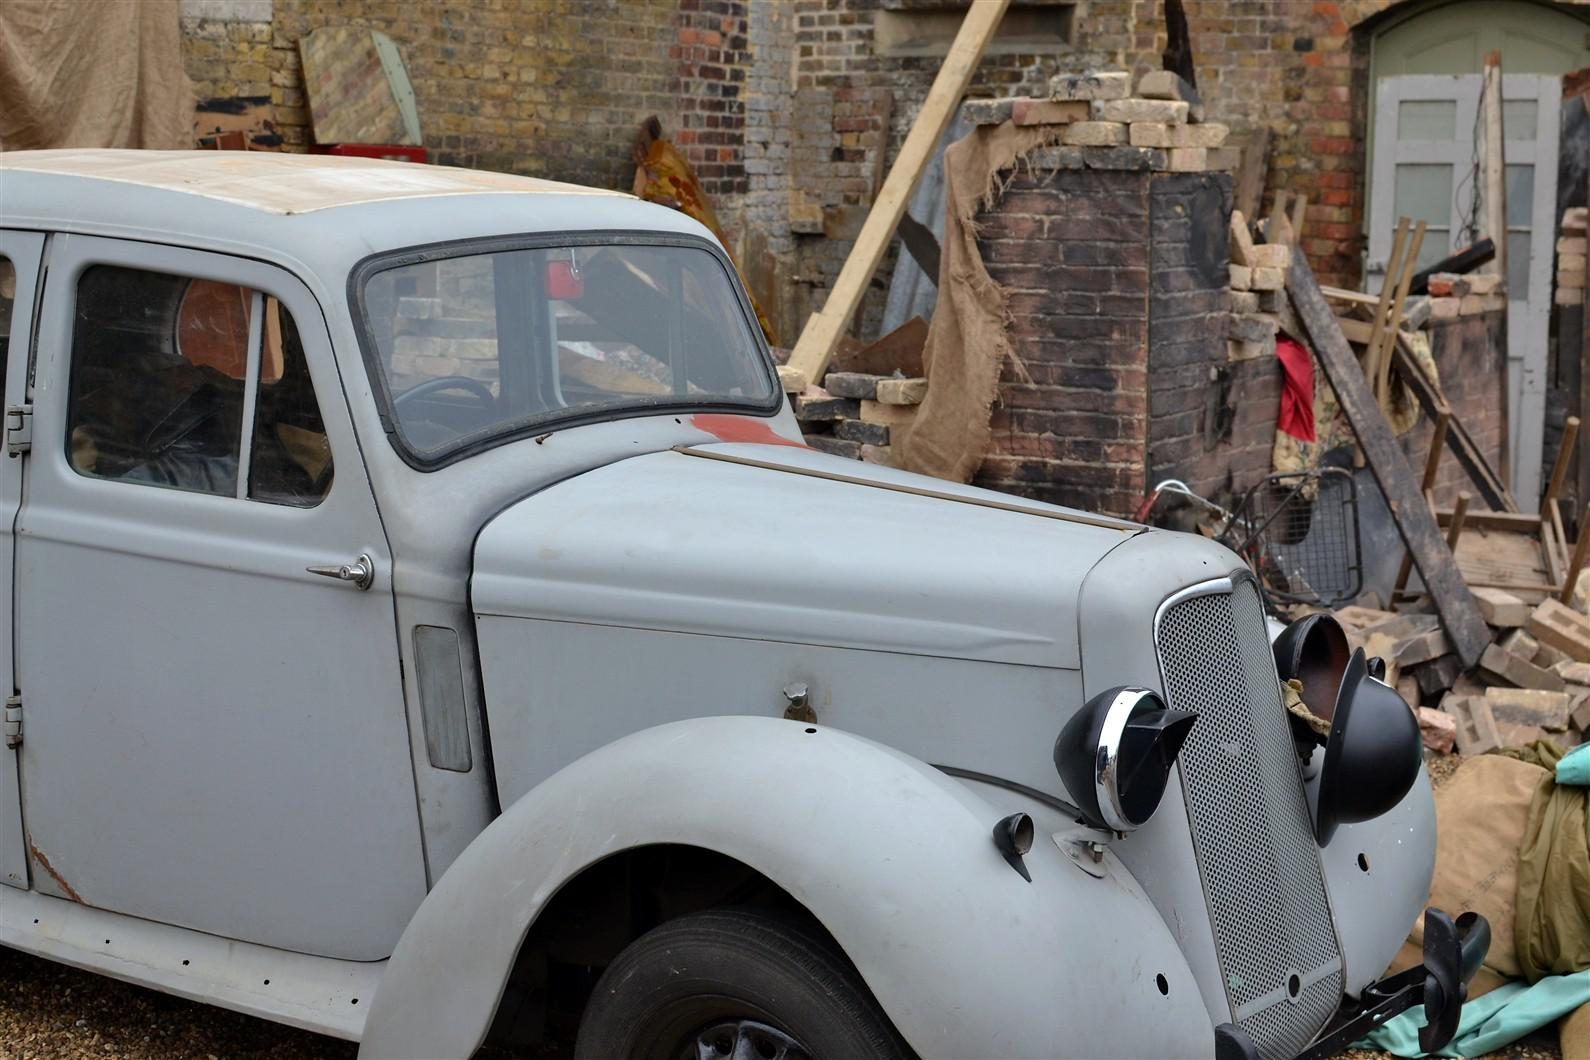roof-dent: (0, 63, 690, 235)
